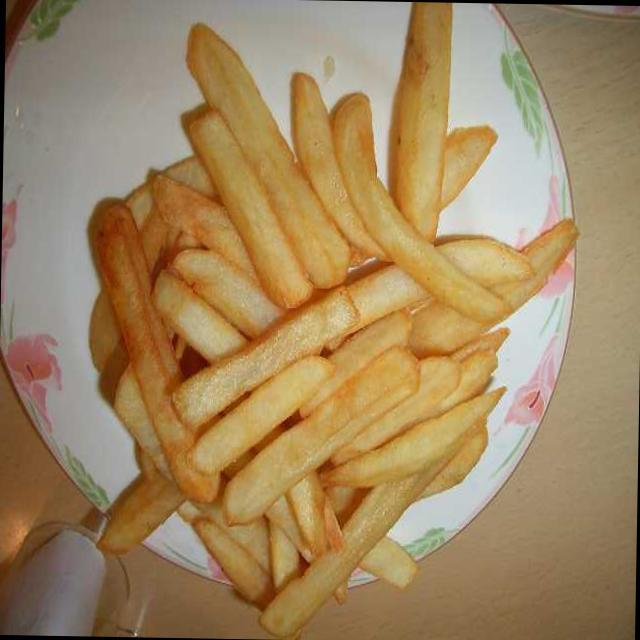French Fries: (118, 73, 528, 592)
